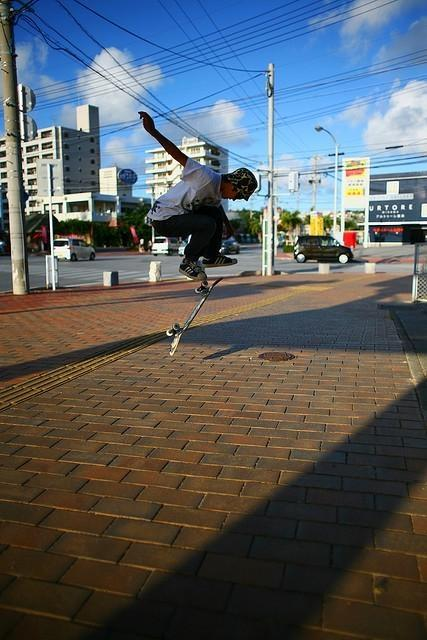car: (294, 236, 354, 264), (54, 236, 98, 262), (150, 236, 180, 256), (218, 239, 242, 255)
